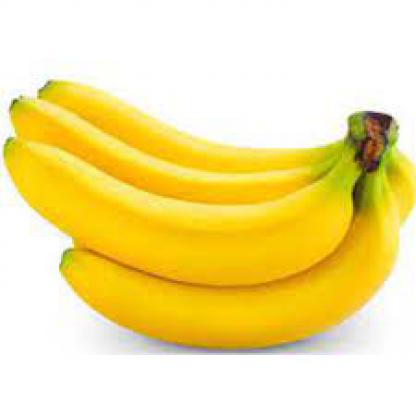Fresh: (2, 7, 414, 414)
